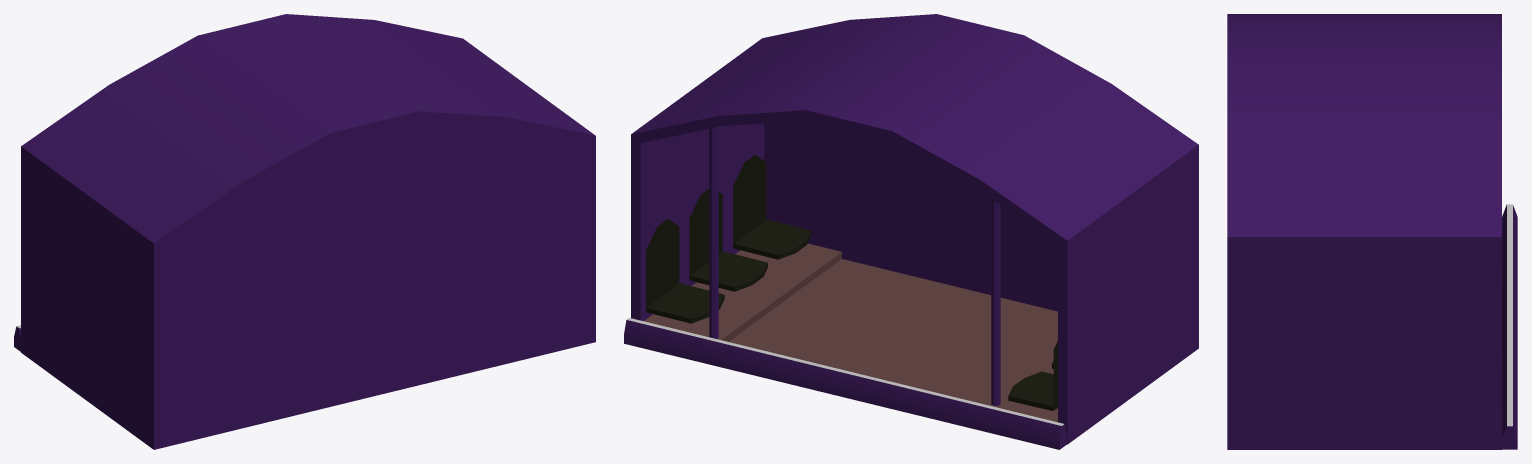
The picture shows the model from 3 angles, left to right: view 1: azimuth 30°, elevation 25°; view 2: azimuth 150°, elevation 25°; view 3: azimuth 270°, elevation 25°; orthographic projection. The views are drawn at different scales.
Visible parts, largest first — view 1: Cube_1; view 2: Cube_1; view 3: Cube_1.
Part boxes in pixels (x1,y1,x2,y2): Cube_1: [14, 14, 595, 449]; Cube_1: [624, 14, 1198, 449]; Cube_1: [1227, 14, 1517, 449].
Size of the model in its own units: 448 by 266 by 247.
